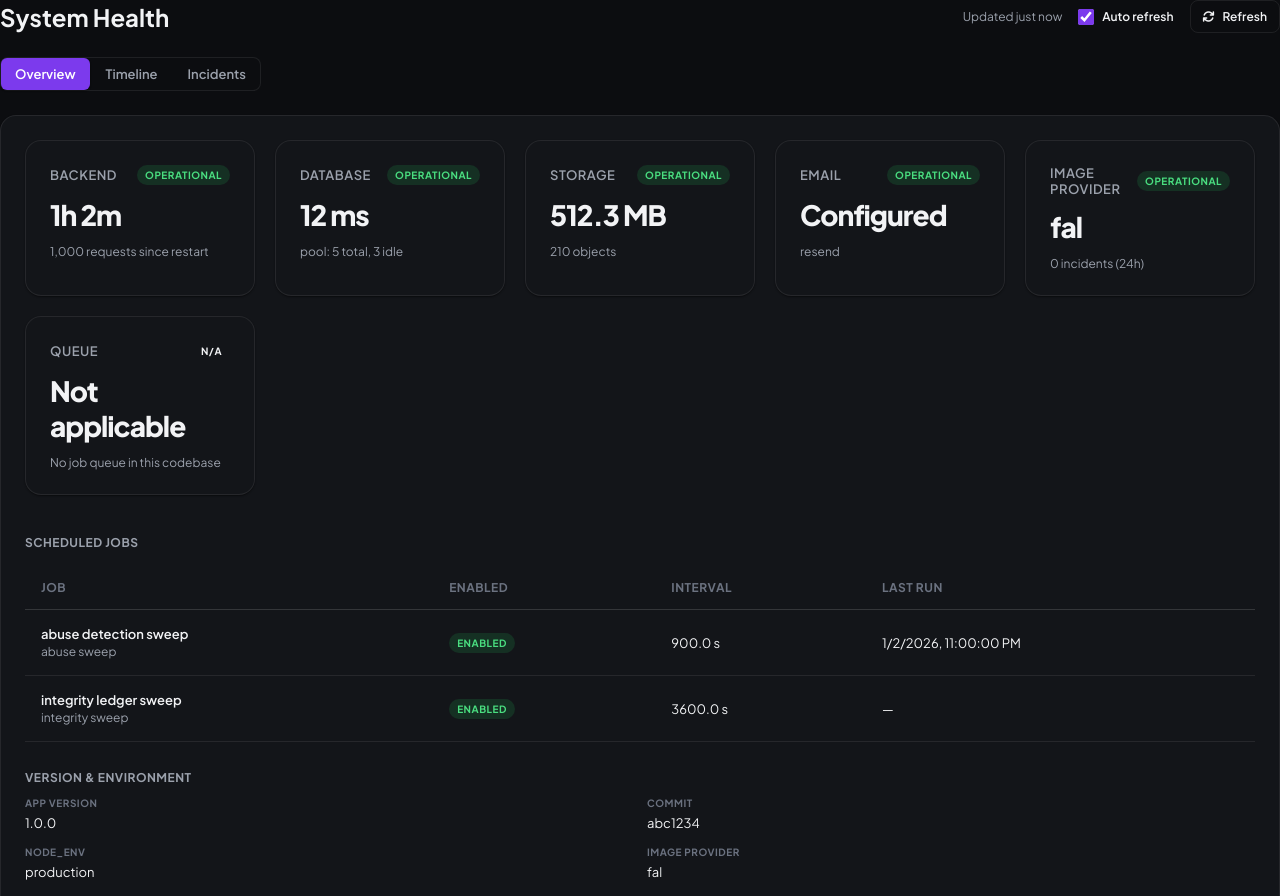
SystemHealthPage - Timeline › opens the incident drawer from a timeline card
Expected: the text "Backend" is shown, 50,167 -> 117,183
Click the button "Timeline".
click(132, 74)  # box 92,58 -> 172,90
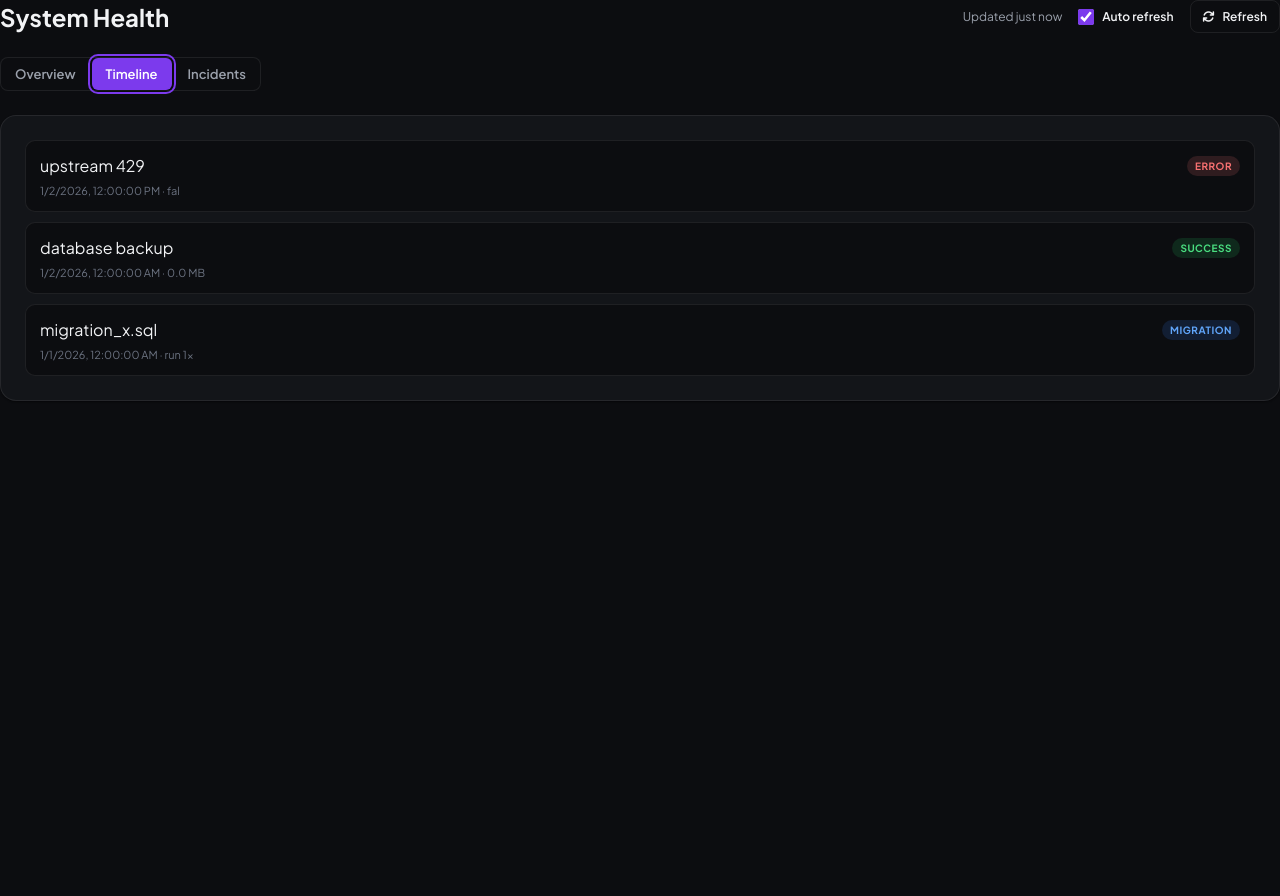
Click the text "upstream 429".
click(92, 166)  # box 40,155 -> 145,176
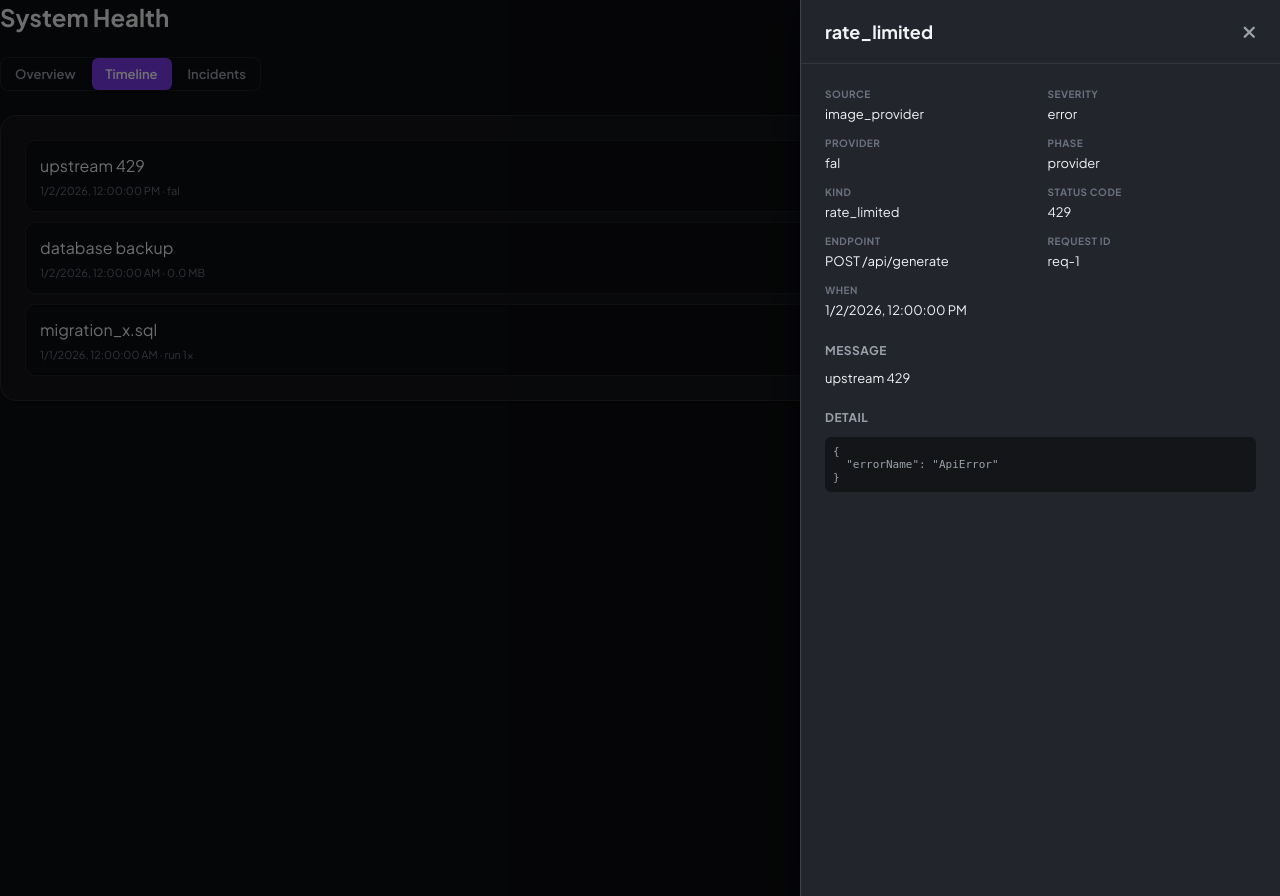
Now the text "req-1" is shown, box 1048,253 -> 1080,269
